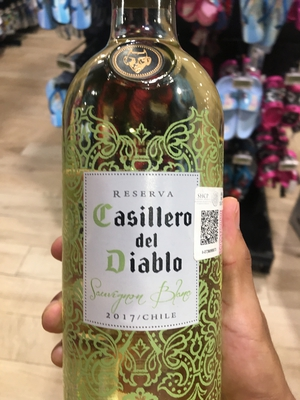casillero del diablo sauvignon blanc: (57, 6, 239, 400)
